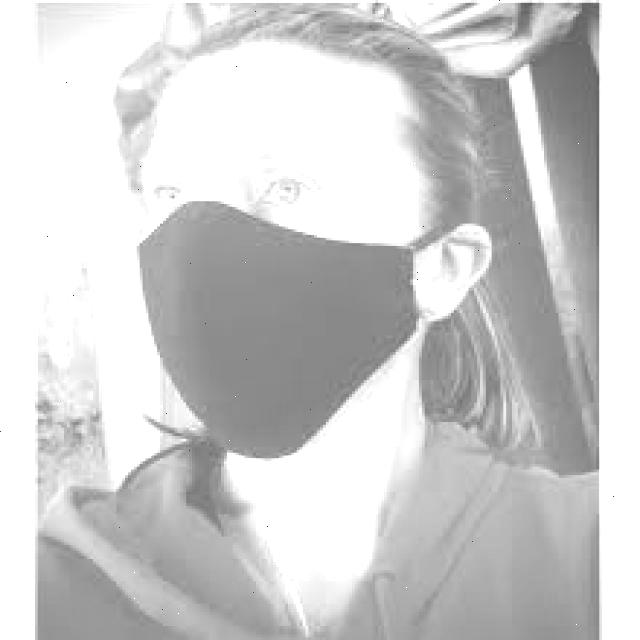fake: (132, 197, 418, 461)
real: (137, 51, 416, 465)
